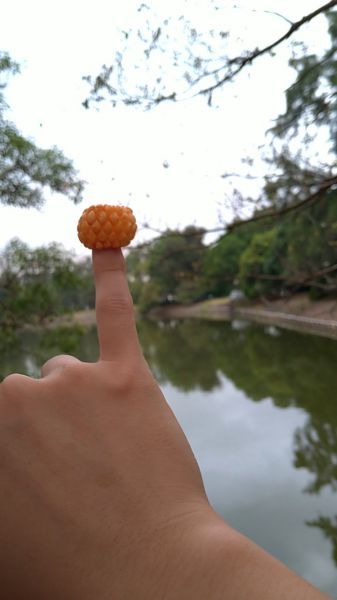eggs: (78, 205, 138, 249)
